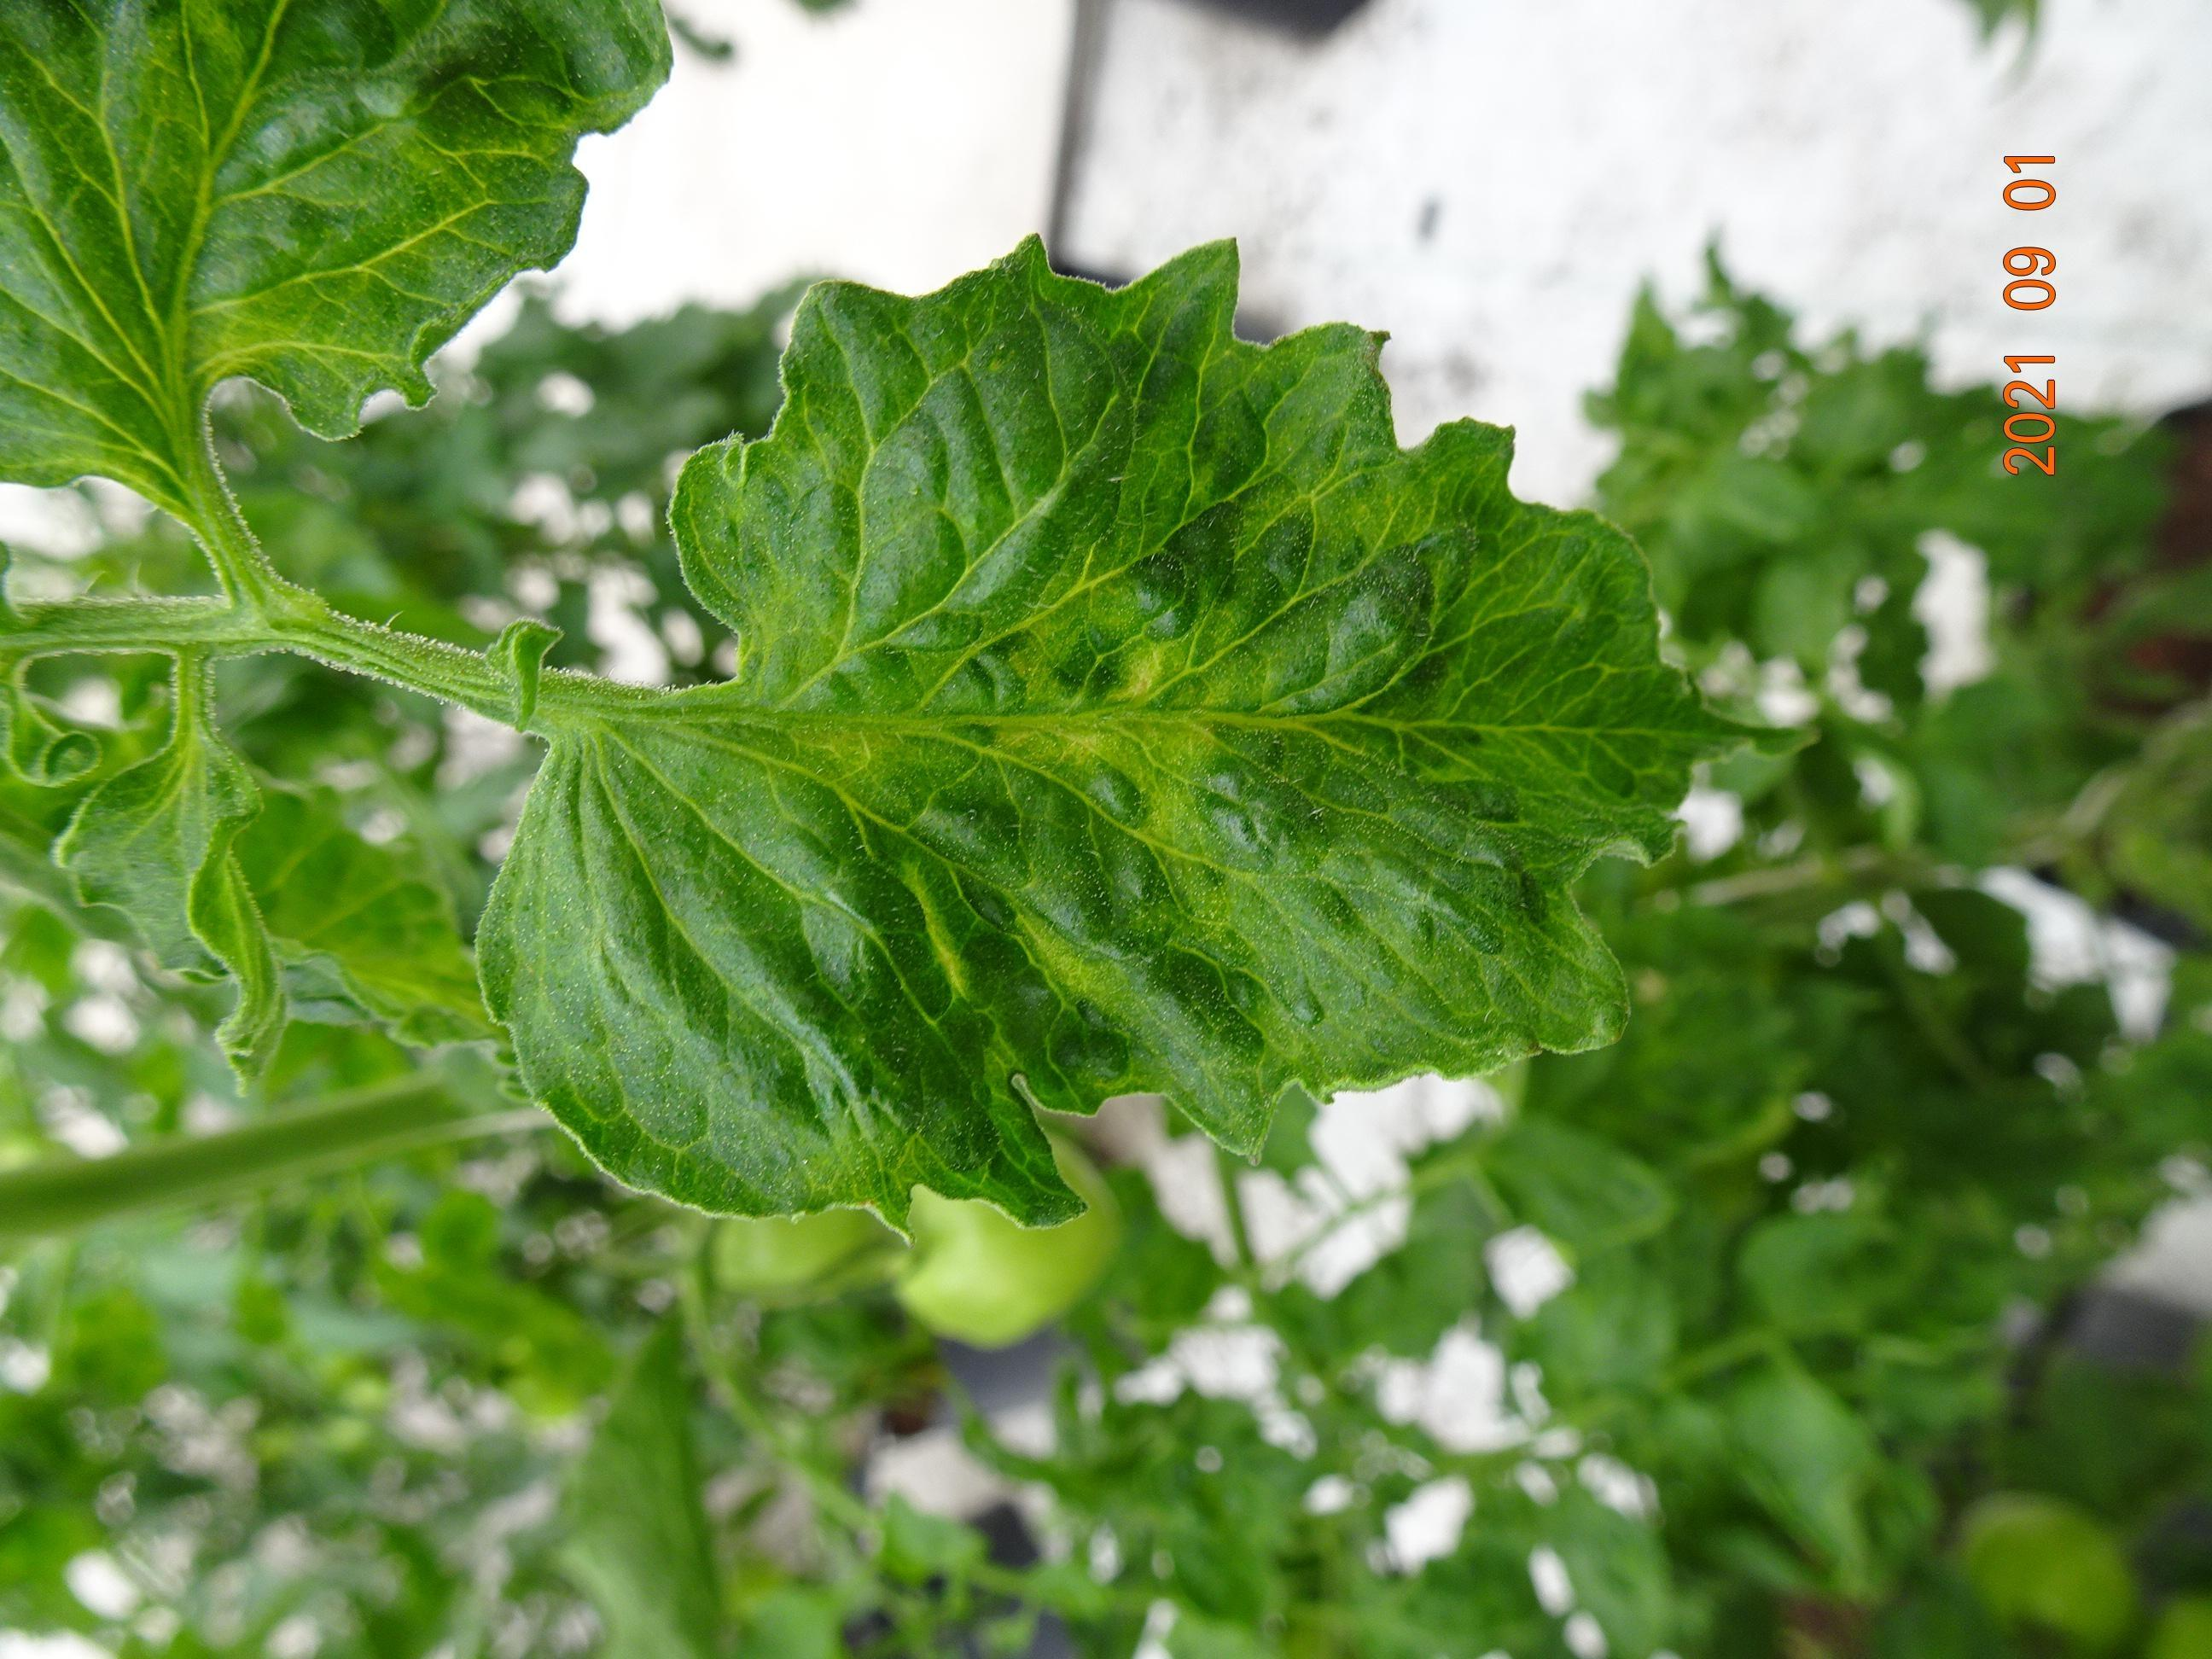Rugose leaf: (479, 246, 1724, 1218)
